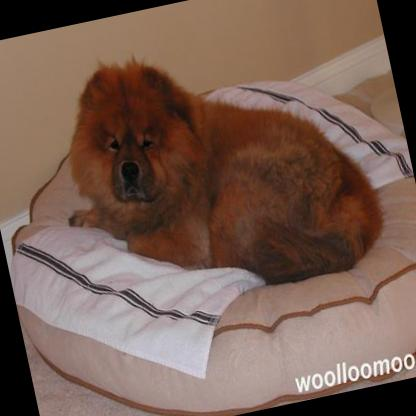chow: (30, 4, 396, 330)
